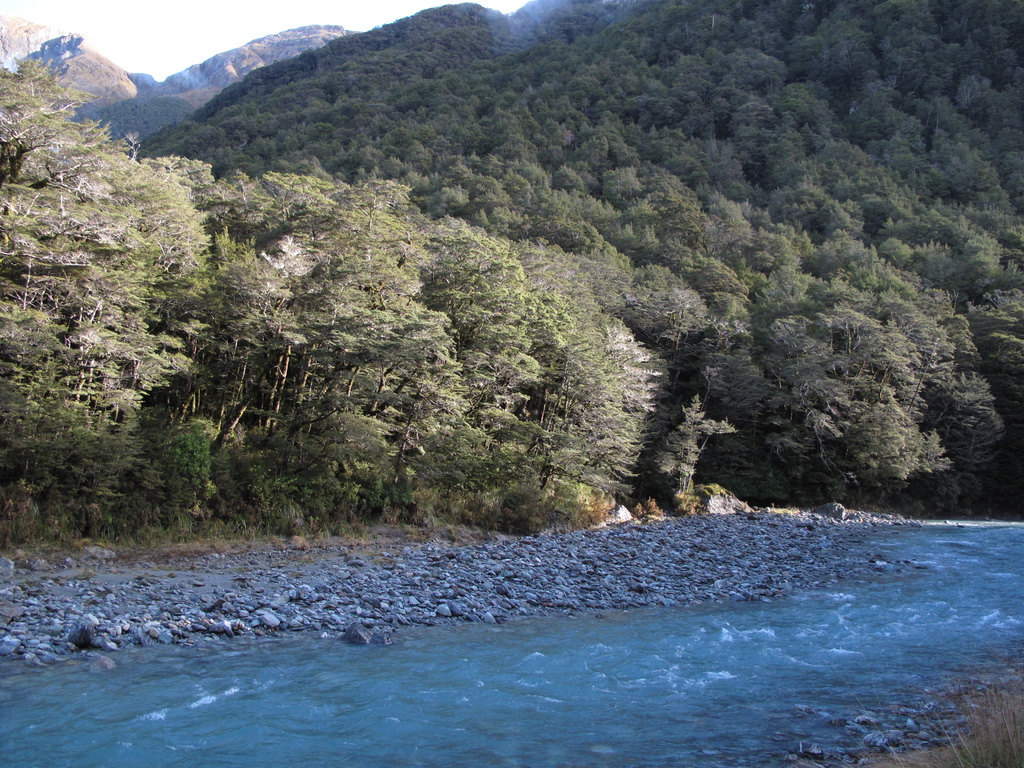Tree: (0, 0, 1023, 533)
